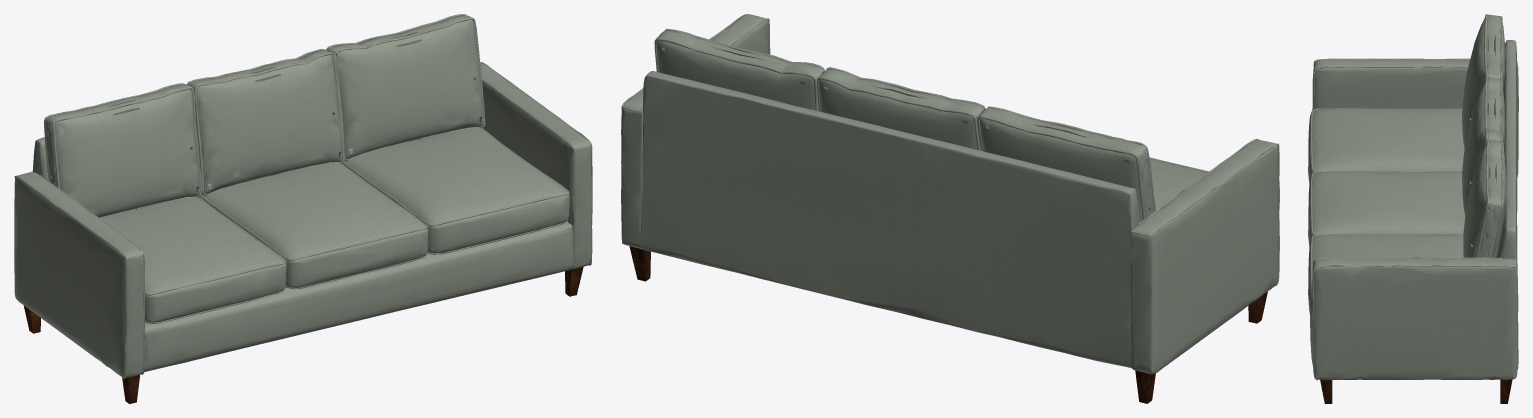
File: LGLY3037_v6_LOD2.obj
3 renders of one model, left to right at view 1: azimuth 30°, elevation 25°; view 2: azimuth 150°, elevation 25°; view 3: azimuth 270°, elevation 25°, orthographic. The views are drawn at different scales.
Visible parts, largest first — view 1: not_clear_obj_0_v6, not_clear_obj_1_v6; view 2: not_clear_obj_0_v6, not_clear_obj_1_v6; view 3: not_clear_obj_0_v6, not_clear_obj_1_v6.
Boxes of the visible parts, left/top/right/bottom form: not_clear_obj_0_v6: left=14, top=14, right=592, bottom=378; not_clear_obj_1_v6: left=23, top=267, right=583, bottom=403; not_clear_obj_0_v6: left=621, top=14, right=1279, bottom=373; not_clear_obj_1_v6: left=629, top=246, right=1267, bottom=403; not_clear_obj_0_v6: left=1308, top=14, right=1518, bottom=380; not_clear_obj_1_v6: left=1320, top=379, right=1512, bottom=403.
Size of what is drawn, in the model's own units: 225 by 98.87 by 95.51.
